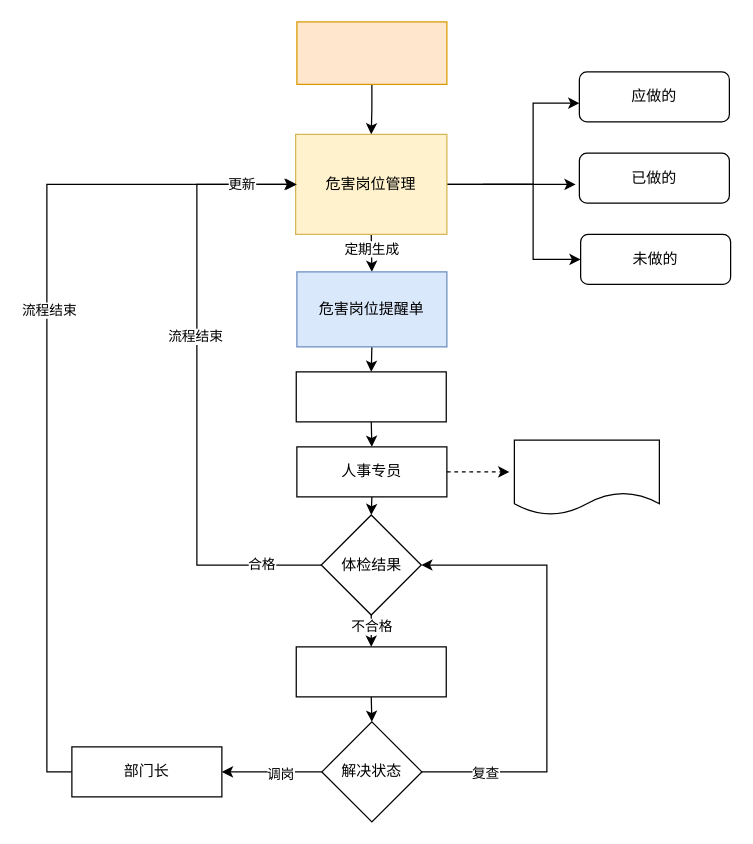
This 753x844 diagram has some shape labels left out. The centre of each missing label's shape, as x and y in pixels:
"EHS复核" belongs at (370,671).
"EHS审核" belongs at (370,396).
"上传体检报告" belongs at (586,477).
"危害岗位变动" belongs at (371,52).
